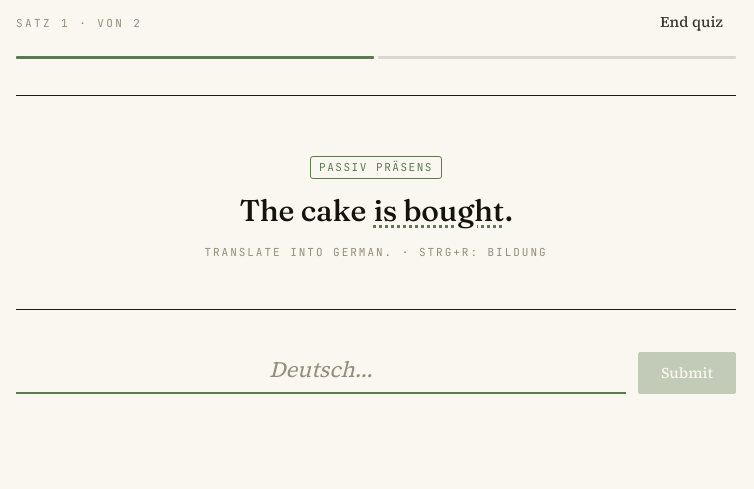
VerbSentenceRunner tense recipe › resets the flip when the next sentence arrives
Step 1. Click the button with class "tense-badge" → (376,167), box [310,156,442,178]
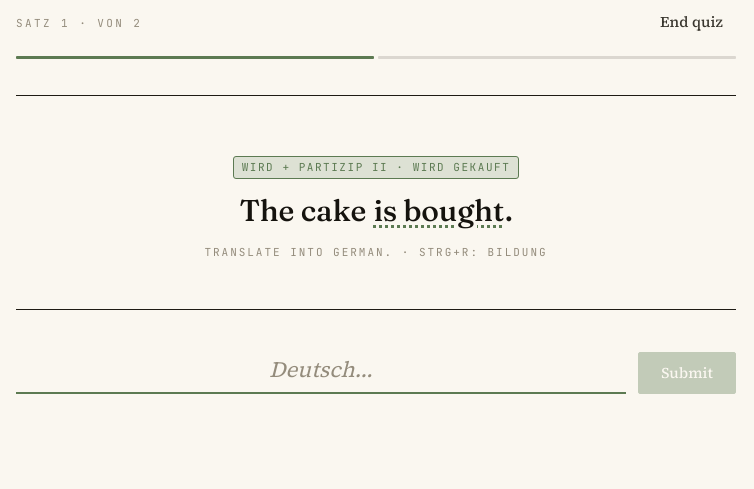
Expected: the button with class "tense-badge" shows "wird gekauft", [233,156,519,178]
Step 2. Type "Der Kuchen wird gekauft." into the field with placeholder "Deutsch…" → (321,370), box [16,346,626,394]
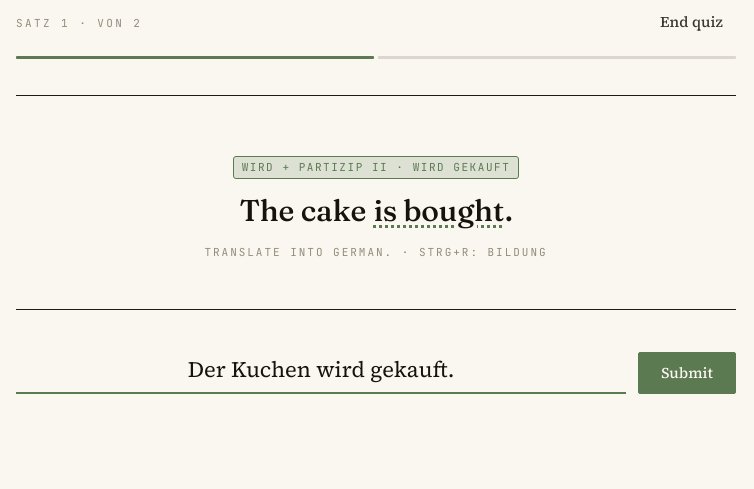
Step 3. Submit the form, box [16,346,736,394]
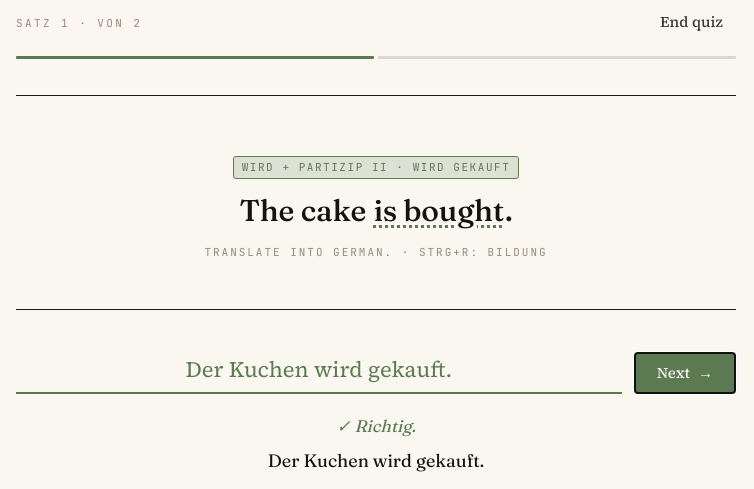
Step 4. Click the button "Next →" → (685,373), box [634,352,736,394]
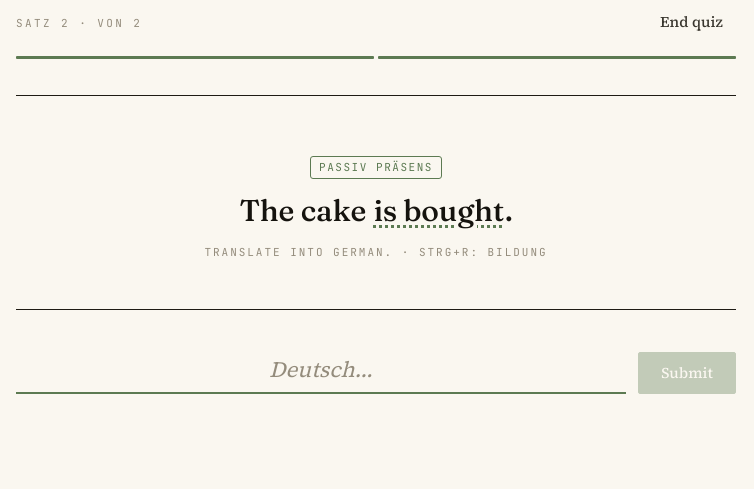
Expected: the button with class "tense-badge" reads "Passiv Präsens", [310,156,442,178]
